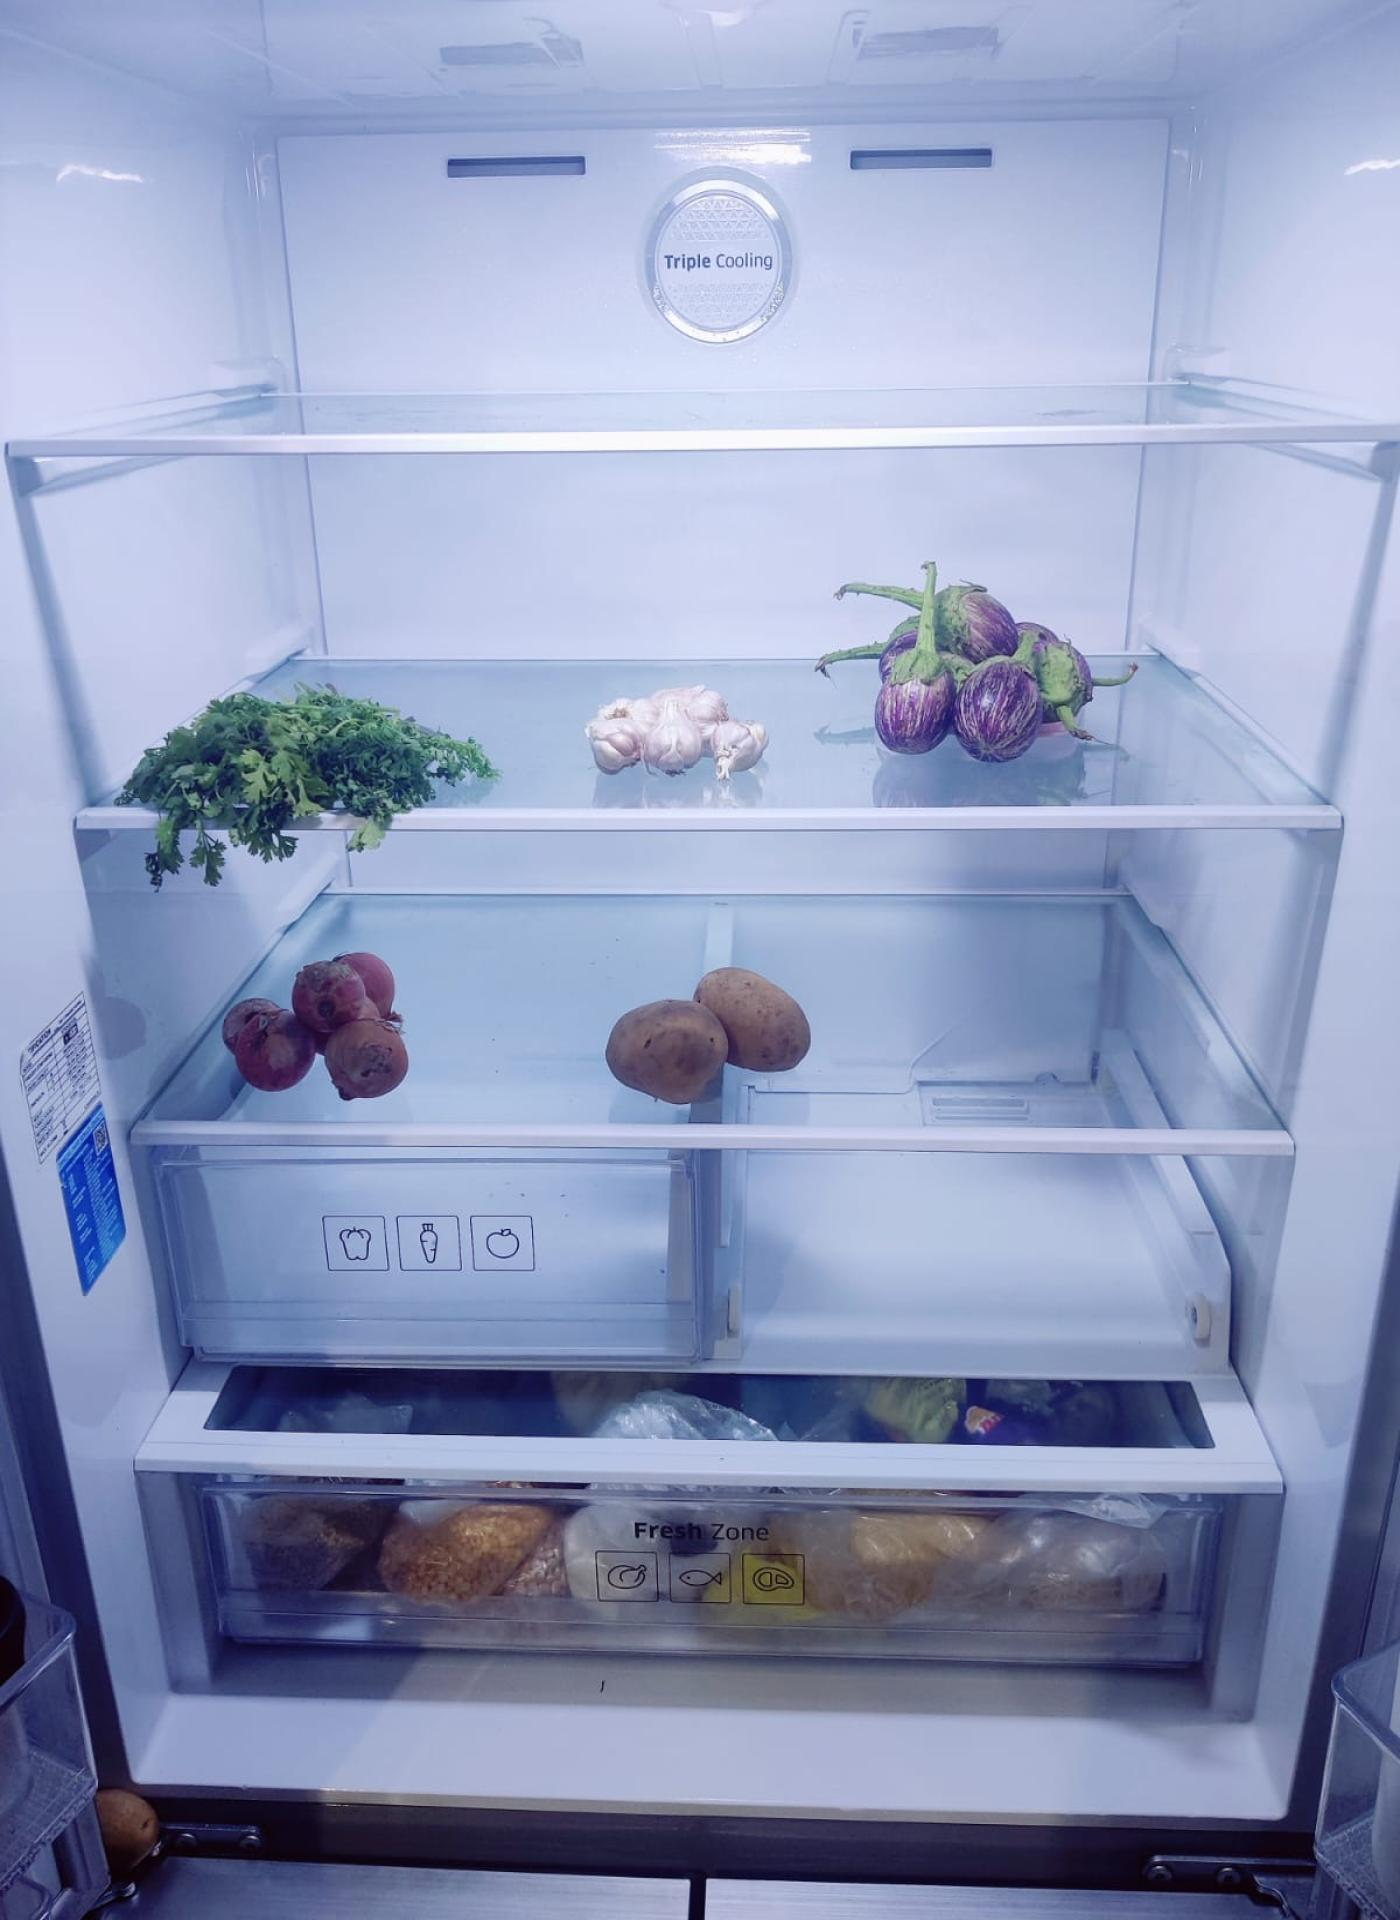brinjal: (845, 565, 1093, 763)
coriander: (133, 680, 491, 842)
ginger: (587, 683, 771, 781)
onion: (228, 951, 414, 1099)
potato: (610, 964, 819, 1103)
